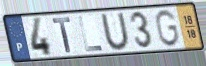3: (129, 10, 155, 50)
4: (30, 16, 54, 58)
G: (153, 8, 181, 48)
L: (77, 15, 105, 53)
T: (51, 16, 73, 54)
U: (99, 11, 133, 52)
